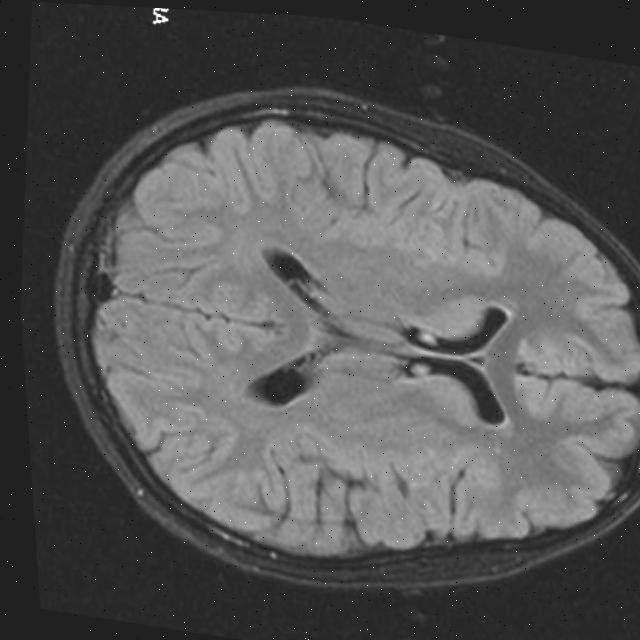NoTumor: (9, 43, 640, 639)
